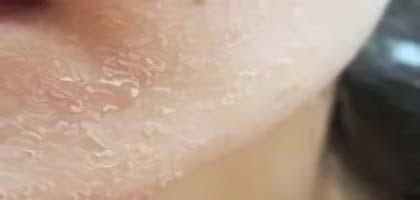Dry-Skin: (4, 14, 291, 200)
